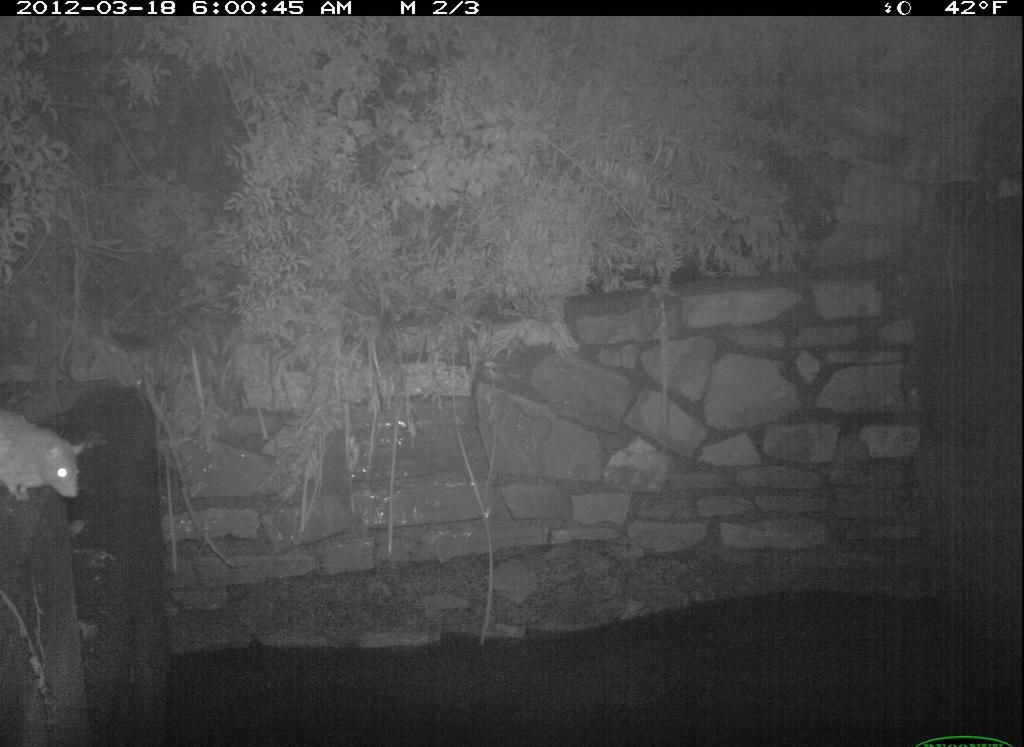rodent: (2, 397, 99, 519)
